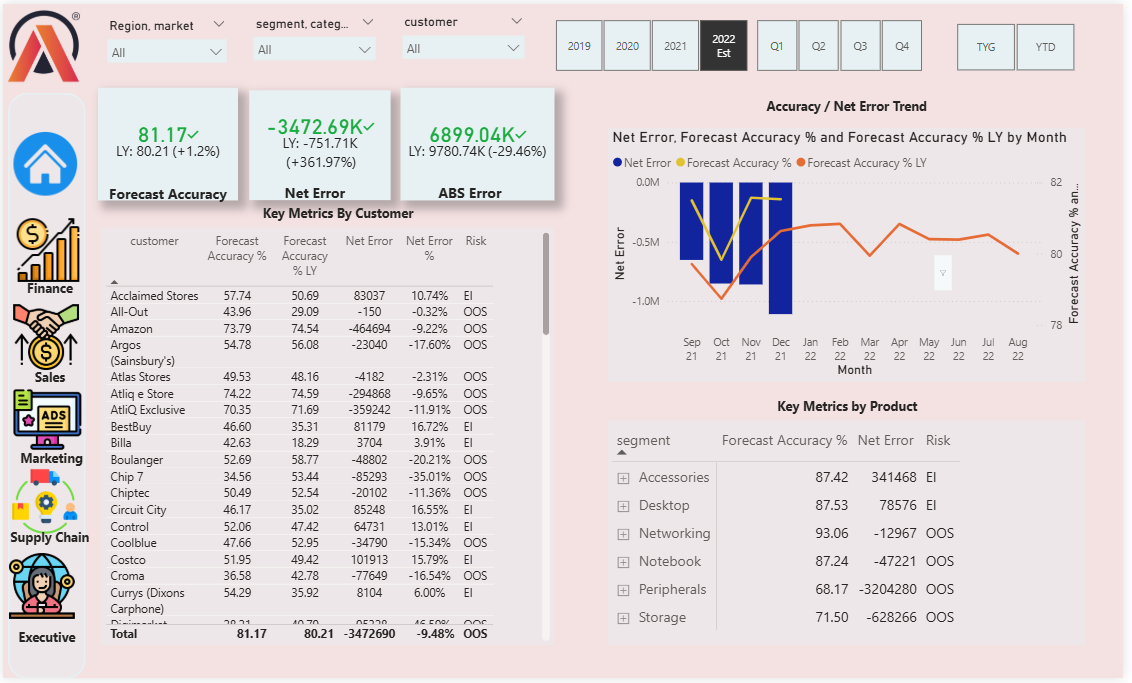

This screenshot's page, from the dashboard's own definition file:
{"tool":"powerbi","page":{"name":"Supply Chain View","canvas":[1280,771],"ordinal":2},"visuals":[{"type":"slicer","fields":{"Values":["fiscal_year.fy_desc"]},"box":[605.7,11.4,268.6,71.4],"z":0},{"type":"slicer","fields":{"Values":["dim_date.quarters"]},"box":[835.7,11.4,238.6,71.4],"z":1000},{"type":"slicer","fields":{"Values":["dim_date.ytd_ytg"]},"box":[1064.3,287.1,20,40],"z":2000},{"type":"slicer","fields":{"Values":["dim_date.ytd_ytg"]},"box":[1064.3,15.7,184.3,67.1],"z":3000},{"type":"textbox","box":[111.4,224.3,542.9,31.4],"z":4000},{"type":"slicer","fields":{"Values":["dim_market.region","dim_market.market"]},"box":[108.6,11.4,157.1,62.9],"z":5000},{"type":"slicer","fields":{"Values":["dim_customer.customer"]},"box":[445.7,7.1,160,67.1],"z":6000},{"type":"slicer","fields":{"Values":["dim_product.segment","dim_product.category","dim_product.product"]},"box":[275.7,8.6,160,67.1],"z":7000},{"type":"kpi","title":"NS$ and NS$ by fiscal_year","fields":{"TrendLine":["dim_date.fiscal_year"],"Indicator":["Key Measure.Forecast Accuracy %"],"Goal":["Key Measure.Forecast Accuracy % LY"]},"box":[108.6,95.7,160,128.6],"z":8000},{"type":"kpi","fields":{"TrendLine":["dim_date.fiscal_year"],"Indicator":["Key Measure.Net Error"],"Goal":["Key Measure.Net Error LY"]},"box":[281.4,98.6,161.4,125.7],"z":9000},{"type":"textbox","box":[108.6,182.9,160,57.1],"z":10000},{"type":"kpi","title":"NS$ and NS$ by fiscal_year","fields":{"TrendLine":["dim_date.fiscal_year"],"Indicator":["Key Measure.ABS Error"],"Goal":["Key Measure.ABS Error LY"]},"box":[454.3,95.7,175.7,128.6],"z":11000},{"type":"textbox","box":[275.7,181.4,161.4,55.7],"z":12000},{"type":"textbox","box":[445.7,181.4,175.7,55.7],"z":13000},{"type":"image","box":[0,0,95.7,95.7],"z":14000},{"type":"shape","box":[5.7,101.4,88.6,670],"z":15000},{"type":"image","box":[10,240,84.3,82.9],"z":16000},{"type":"image","box":[5.7,337.1,87.1,87.1],"z":17000},{"type":"image","box":[7.1,428.6,87.1,92.9],"z":18000},{"type":"image","box":[5.7,525.7,84.3,85.7],"z":19000},{"type":"image","box":[0,621.4,88.6,87.1],"z":20000},{"type":"image","box":[7.1,141.4,82.9,82.9],"z":21000},{"type":"tableEx","fields":{"Values":["dim_customer.customer","Key Measure.Forecast Accuracy %","Key Measure.Forecast Accuracy % LY","Key Measure.Net Error","Key Measure.Net Error %","Key Measure.Risk"]},"box":[111.4,255.7,518.6,477.1],"z":22000},{"type":"lineStackedColumnComboChart","fields":{"Category":["dim_date.Month"],"Y":["Key Measure.Net Error"],"Y2":["Key Measure.Forecast Accuracy %","Key Measure.Forecast Accuracy % LY"]},"box":[691.4,141.4,545.7,290],"z":23000},{"type":"pivotTable","fields":{"Rows":["dim_product.segment","dim_product.category","dim_product.product"],"Values":["Key Measure.Forecast Accuracy %","Key Measure.Net Error","Key Measure.Risk"]},"box":[691.4,475.7,545.7,257.1],"z":24000},{"type":"textbox","box":[692.9,444.3,544.3,31.4],"z":25000},{"type":"textbox","box":[691.4,101.4,545.7,42.9],"z":26000},{"type":"textbox","box":[0,310,111.4,35.7],"z":27000},{"type":"textbox","box":[0,411.4,111.4,34.3],"z":28000},{"type":"textbox","box":[0,504,111,35],"z":29000},{"type":"textbox","box":[0,594,111,48],"z":30000},{"type":"textbox","box":[0,708.6,108.6,50],"z":31000}]}

Visuals, with their boxes on the page's 1280x771 design canvas (x1, y1, x2, y2). These are canvas units, not pixel positions in the 1132x683 screenshot, which may show the page scaled, cropped or inside an application window:
slicer - fiscal_year.fy_desc: detection(606, 11, 874, 83)
slicer - dim_date.quarters: detection(836, 11, 1074, 83)
slicer - dim_date.ytd_ytg: detection(1064, 287, 1084, 327)
slicer - dim_date.ytd_ytg: detection(1064, 16, 1249, 83)
textbox: detection(111, 224, 654, 256)
slicer - dim_market.region x dim_market.market: detection(109, 11, 266, 74)
slicer - dim_customer.customer: detection(446, 7, 606, 74)
slicer - dim_product.segment x dim_product.category: detection(276, 9, 436, 76)
"NS$ and NS$ by fiscal_year" kpi: detection(109, 96, 269, 224)
kpi - dim_date.fiscal_year x Key Measure.Net Error: detection(281, 99, 443, 224)
textbox: detection(109, 183, 269, 240)
"NS$ and NS$ by fiscal_year" kpi: detection(454, 96, 630, 224)
textbox: detection(276, 181, 437, 237)
textbox: detection(446, 181, 621, 237)
image: detection(0, 0, 96, 96)
shape: detection(6, 101, 94, 771)
image: detection(10, 240, 94, 323)
image: detection(6, 337, 93, 424)
image: detection(7, 429, 94, 522)
image: detection(6, 526, 90, 611)
image: detection(0, 621, 89, 708)
image: detection(7, 141, 90, 224)
tableEx - dim_customer.customer x Key Measure.Forecast Accuracy %: detection(111, 256, 630, 733)
lineStackedColumnComboChart - dim_date.Month x Key Measure.Net Error: detection(691, 141, 1237, 431)
pivotTable - dim_product.segment x dim_product.category: detection(691, 476, 1237, 733)
textbox: detection(693, 444, 1237, 476)
textbox: detection(691, 101, 1237, 144)
textbox: detection(0, 310, 111, 346)
textbox: detection(0, 411, 111, 446)
textbox: detection(0, 504, 111, 539)
textbox: detection(0, 594, 111, 642)
textbox: detection(0, 709, 109, 759)
